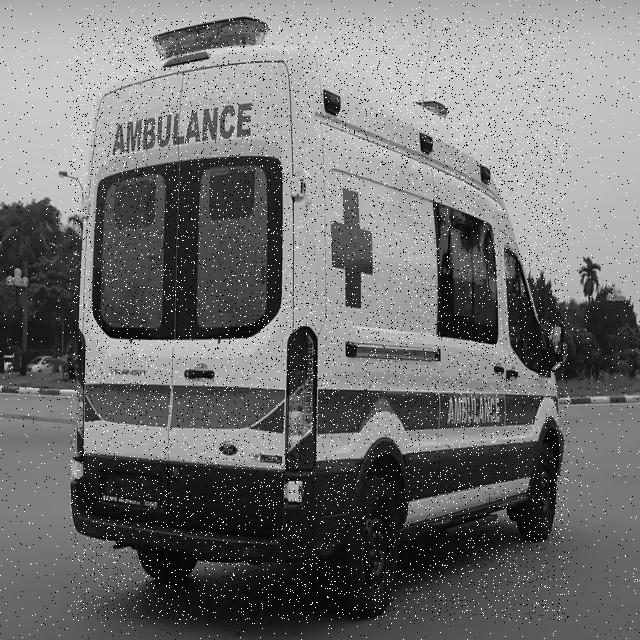Ambulance: (70, 18, 569, 620)
